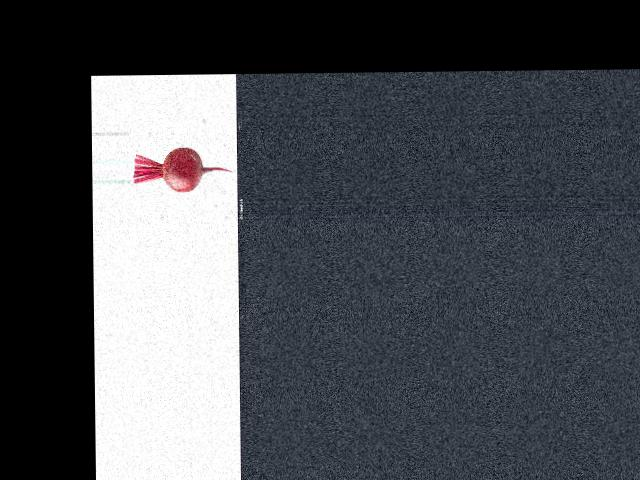beet: (133, 146, 234, 192)
